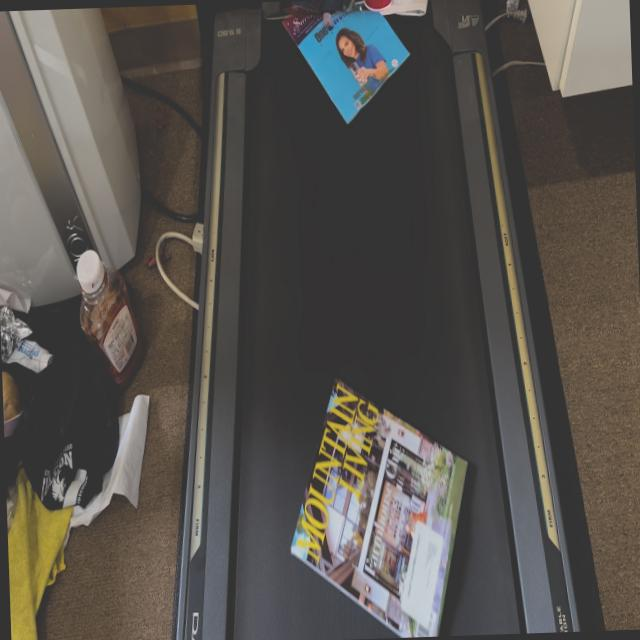Recycle: (281, 371, 475, 640), (276, 0, 413, 131)
